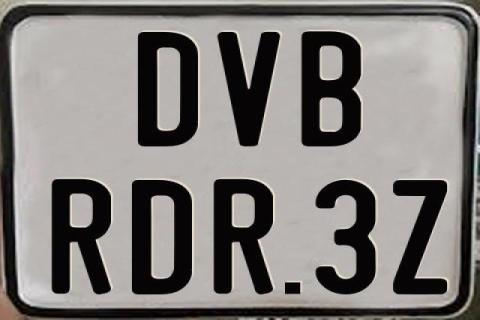0: (312, 180, 375, 294)
B: (299, 31, 364, 149)
D: (132, 179, 198, 297), (137, 31, 197, 145)
R: (212, 178, 272, 298), (50, 179, 109, 297)
V: (216, 31, 285, 146)
Z: (390, 180, 447, 296)
